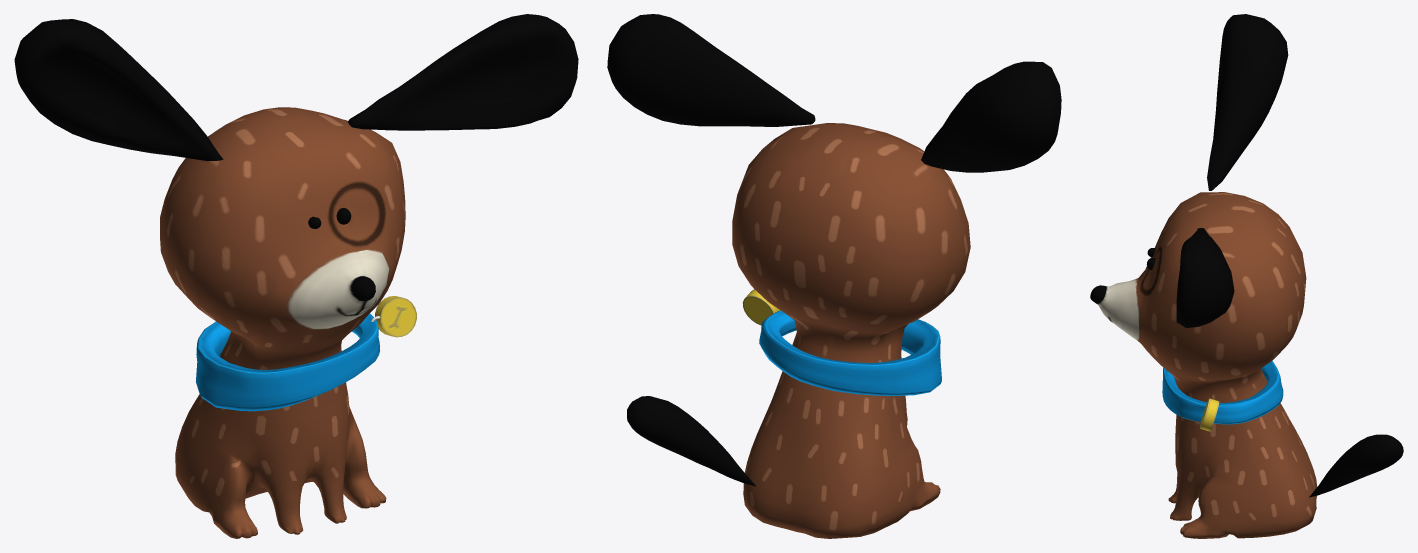
The picture shows the model from 3 angles, left to right: view 1: azimuth 30°, elevation 25°; view 2: azimuth 150°, elevation 25°; view 3: azimuth 270°, elevation 25°; orthographic projection. The views are drawn at different scales.
Parts seen in each view (by area): view 1: Greeting_Dog.1; view 2: Greeting_Dog.1; view 3: Greeting_Dog.1.
Part boxes in pixels (x1=…): Greeting_Dog.1: x1=14, y1=14, x2=578, y2=538; Greeting_Dog.1: x1=607, y1=14, x2=1061, y2=538; Greeting_Dog.1: x1=1090, y1=14, x2=1403, y2=538.
Size of the model in its own units: 0.0448 by 0.0434 by 0.0299.
Materials: 1 (1 with a texture image).
